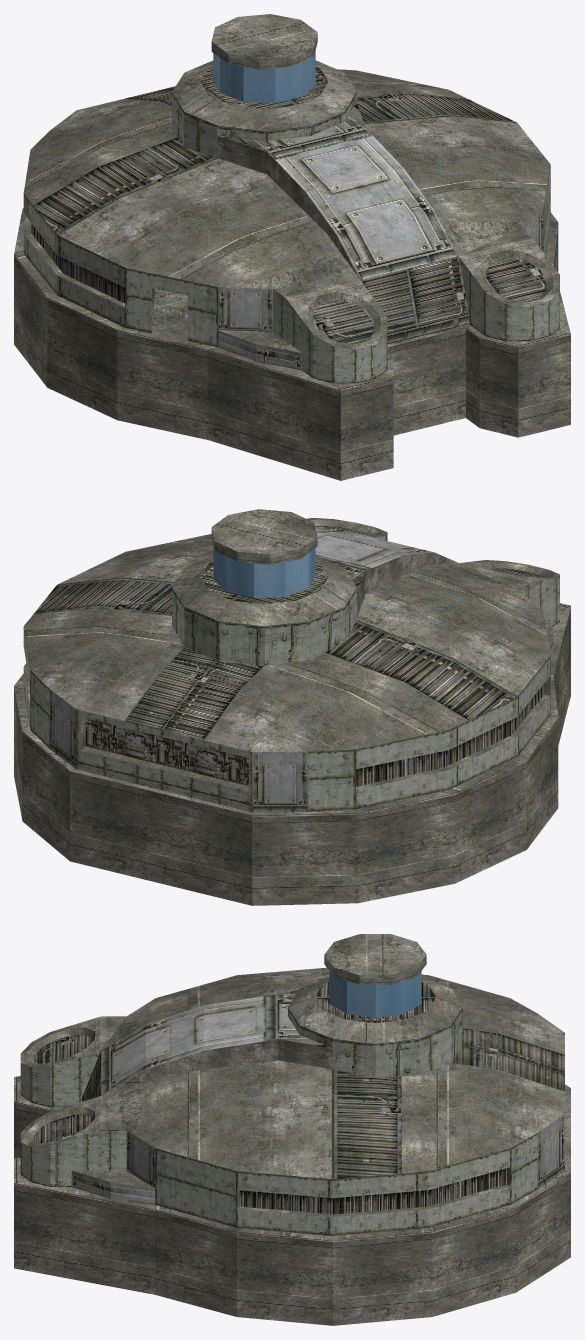
Rendered from ins_all_creature_farm_s01_u0_l0.fbx.
3 renders of one model, top to bottom at view 1: azimuth 30°, elevation 25°; view 2: azimuth 150°, elevation 25°; view 3: azimuth 270°, elevation 25°, orthographic. The views are drawn at different scales.
Parts seen in each view (by area): view 1: mesh_node; view 2: mesh_node; view 3: mesh_node.
Boxes of the visible parts, <box> form: mesh_node: <box>14,14,570,480</box>; mesh_node: <box>14,509,570,905</box>; mesh_node: <box>14,934,570,1325</box>.
Bounding box in the file's own units: 12.5 × 6.88 × 13.32.
